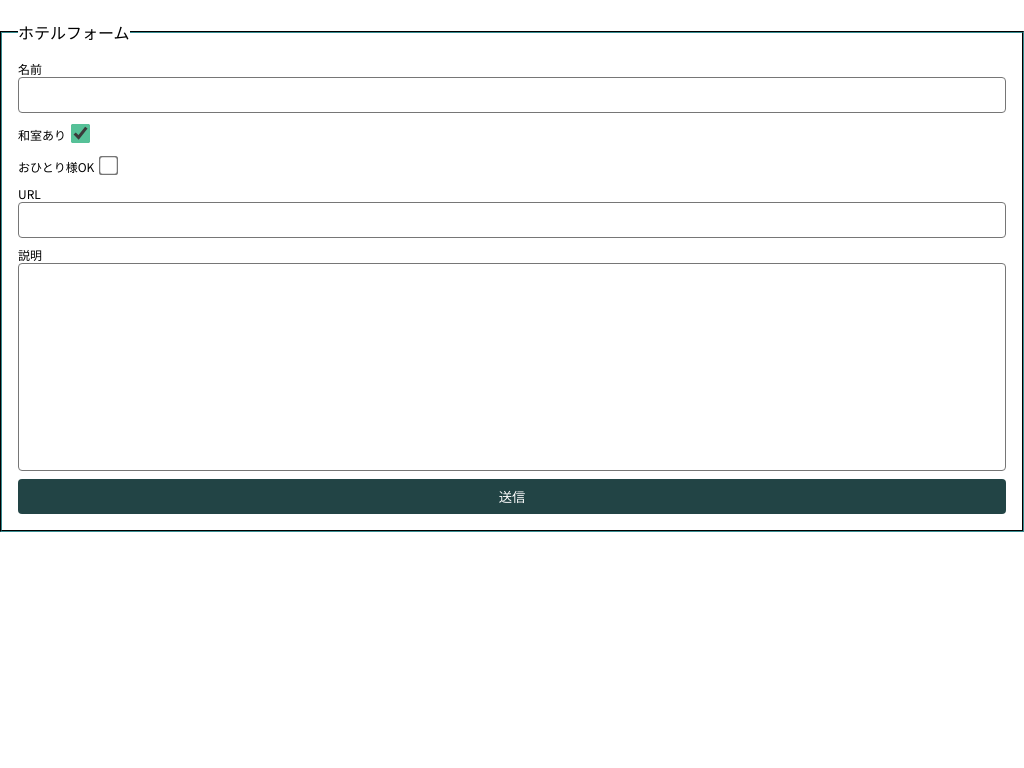
Test: HotelForm › should be able to input and submit
The image size is (1024, 768).
Type "伍楼閣" into the field labelled "名前" at (512, 95), box x1=18 y1=77 x2=1006 y2=113
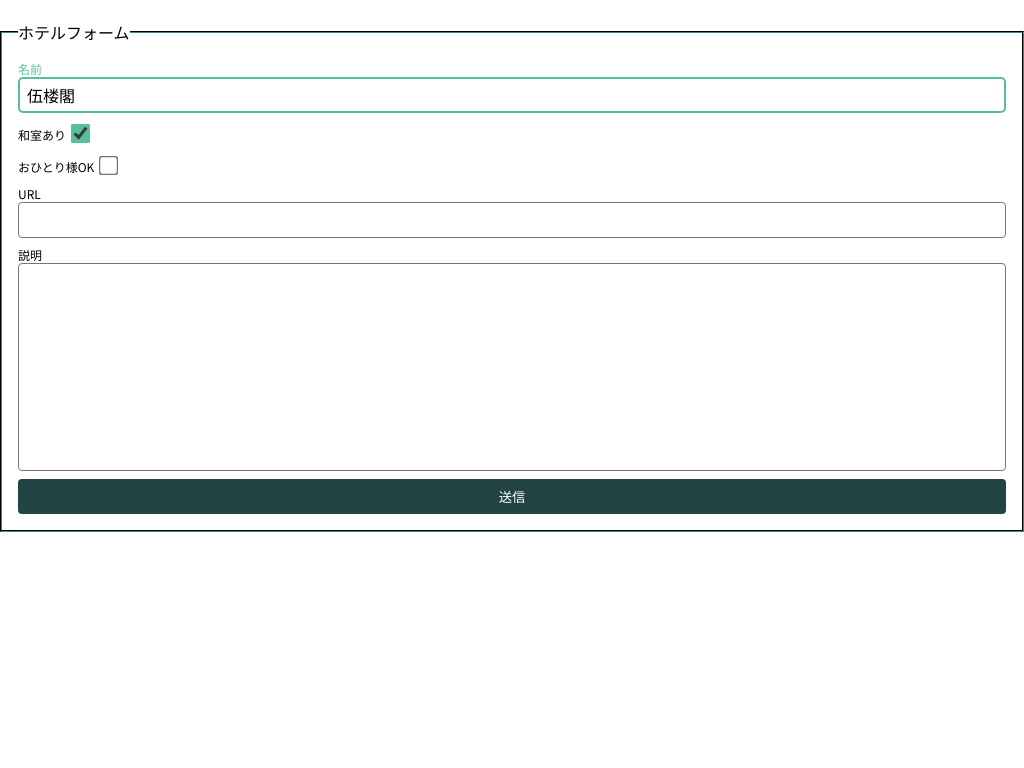
Click the checkbox labelled "和室あり" at (80, 134), box x1=70 y1=124 x2=90 y2=143
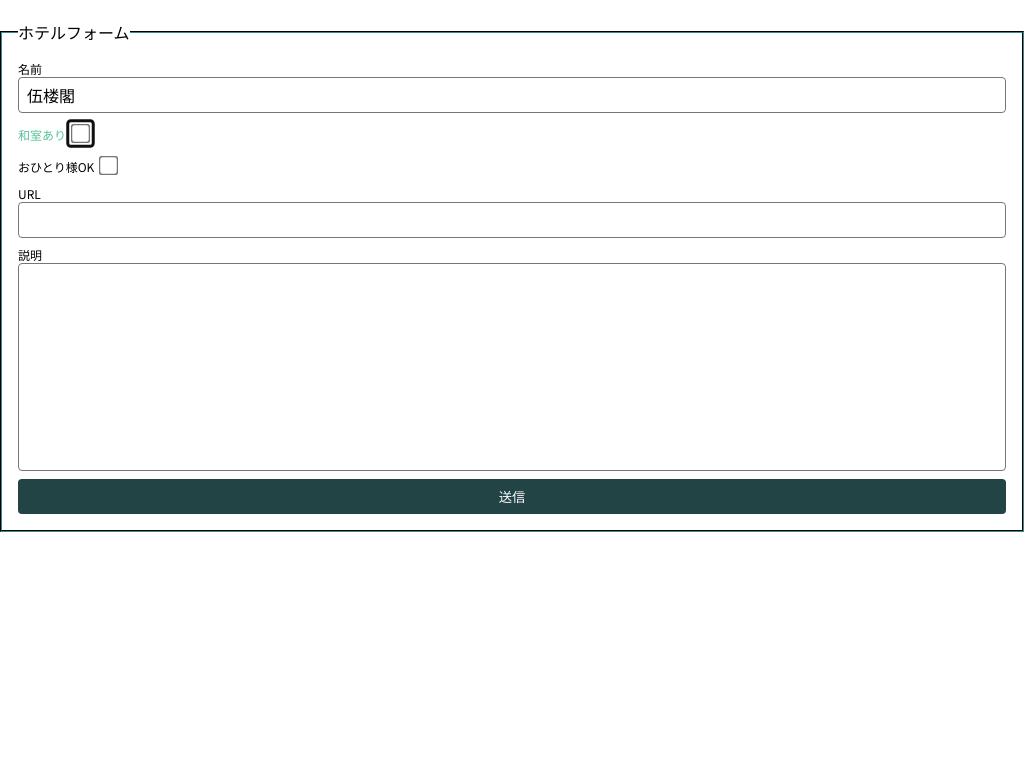
Type "https://www.gorokaku.com/" into the field labelled "URL" at (512, 220), box x1=18 y1=202 x2=1006 y2=238
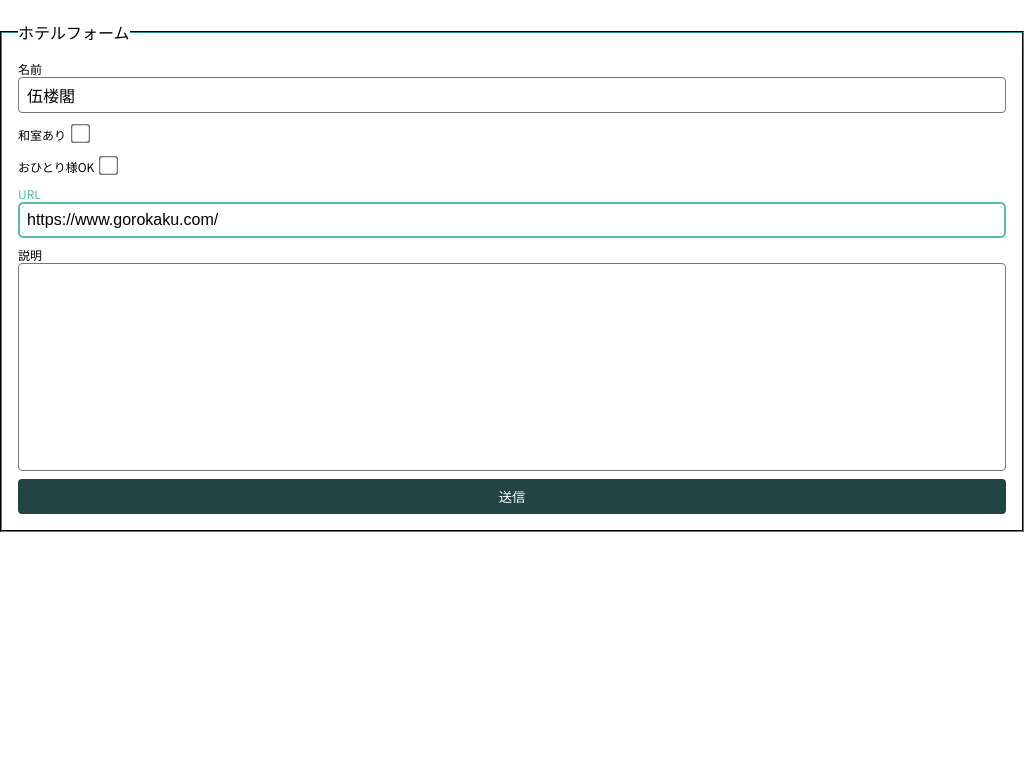
Type "まずはロビーの歴史を感じる雰囲気に圧倒される" into the text box labelled "説明" at (512, 367), box x1=18 y1=263 x2=1006 y2=471
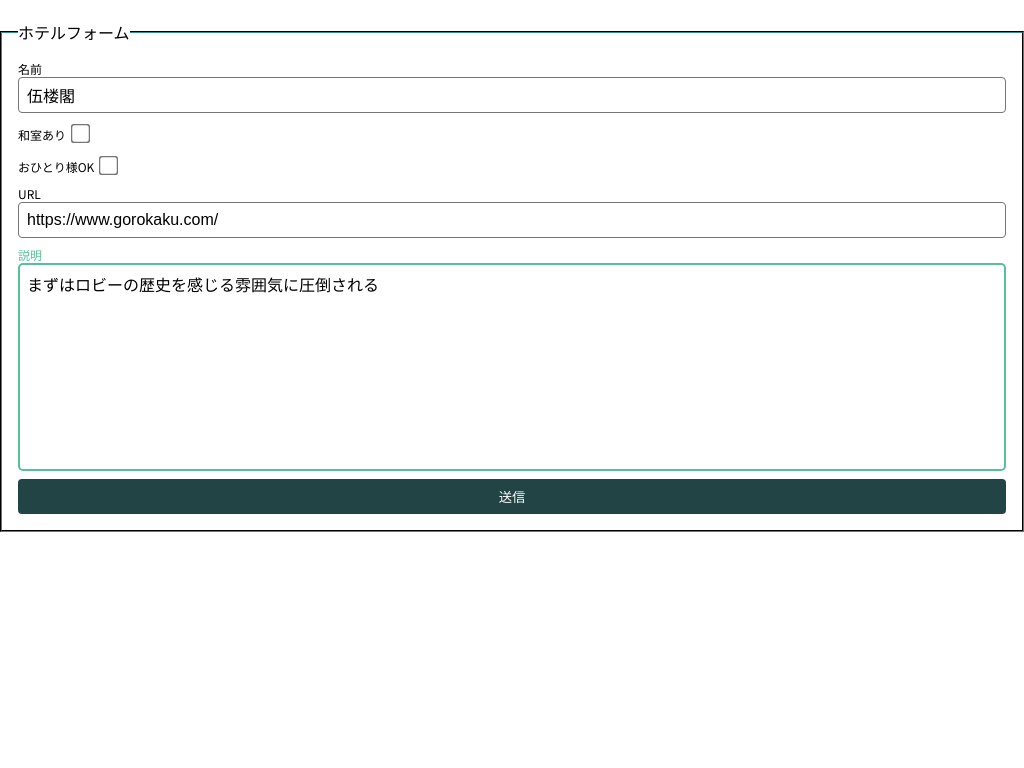
Click the button "送信" at (512, 496), box x1=18 y1=479 x2=1006 y2=514
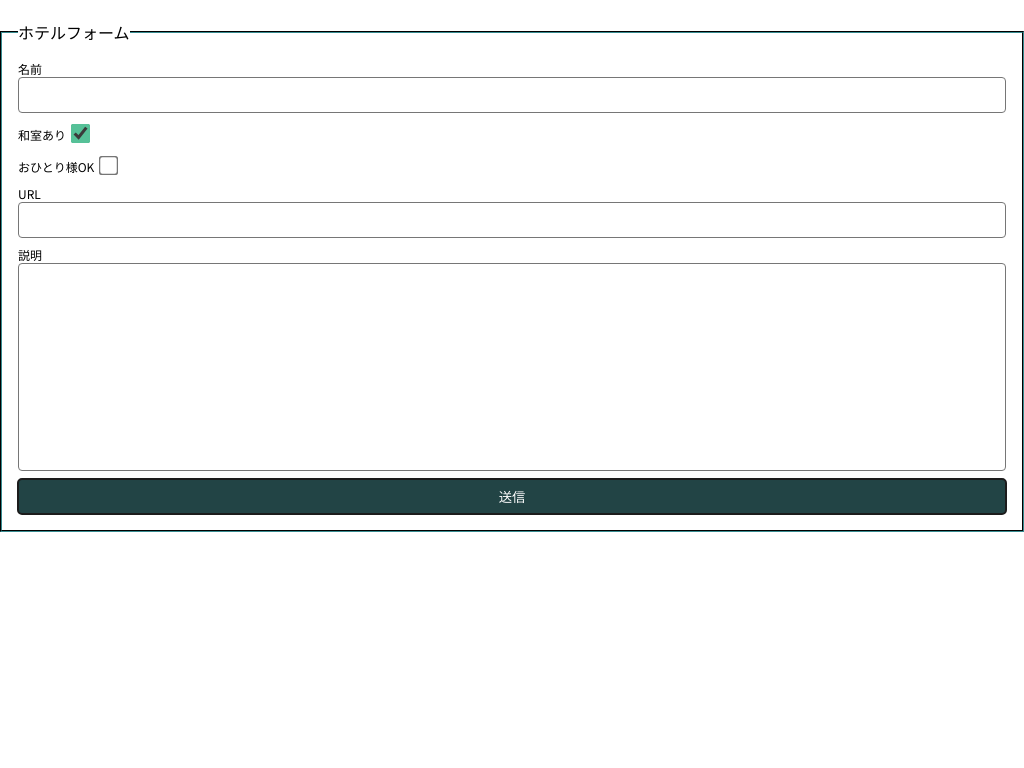
Result: the checkbox labelled "和室あり" is checked at x1=70 y1=124 x2=90 y2=143
Result: the field labelled "名前" is empty at x1=18 y1=77 x2=1006 y2=113
Result: the field labelled "URL" is empty at x1=18 y1=202 x2=1006 y2=238
